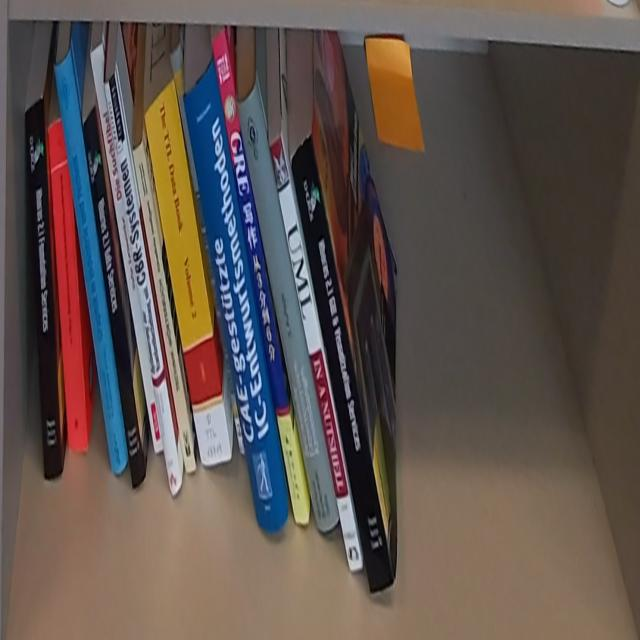Book Spine: (183, 55, 290, 532), (211, 29, 310, 524), (291, 132, 396, 596), (238, 75, 340, 535), (270, 133, 365, 574), (144, 76, 232, 468), (104, 67, 183, 499), (55, 44, 130, 474), (91, 42, 165, 455), (83, 104, 146, 492), (133, 141, 197, 475), (48, 119, 90, 455), (26, 97, 62, 479)
